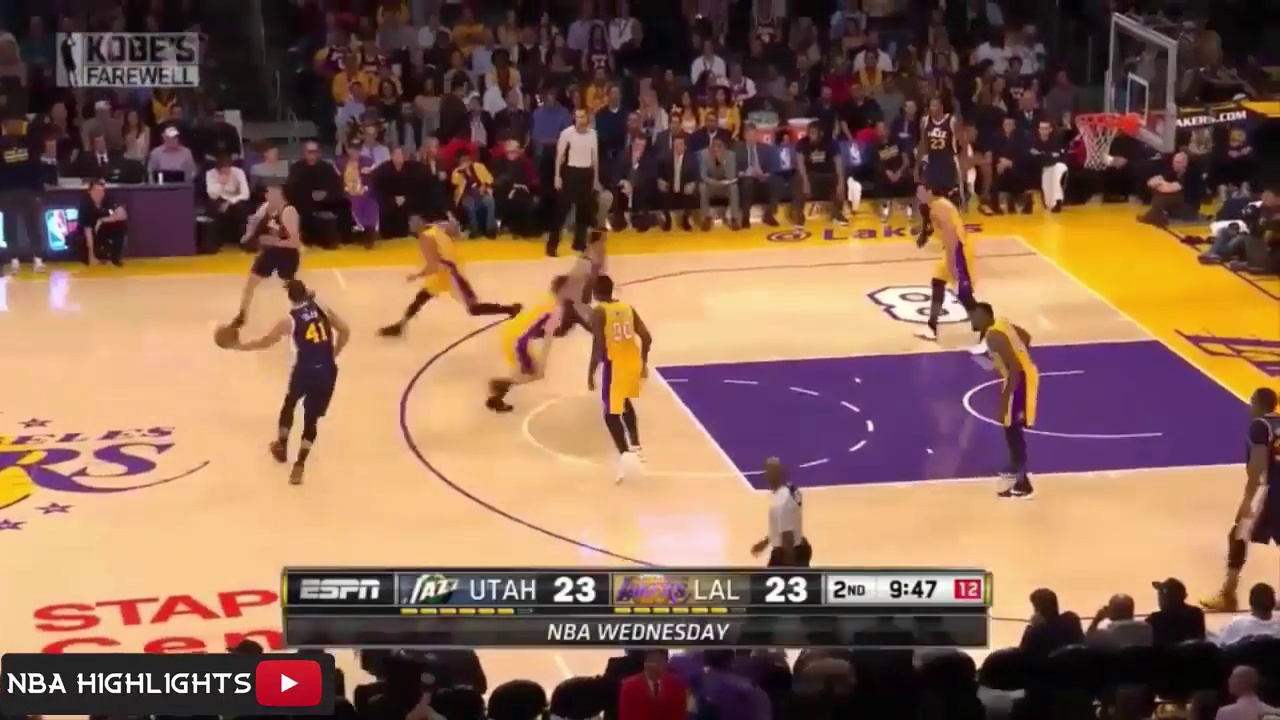jazz: (219, 277, 367, 486), (229, 181, 307, 330), (1230, 380, 1280, 577), (918, 103, 975, 251), (552, 234, 620, 348)
lakers: (962, 301, 1056, 499), (583, 276, 667, 466), (384, 205, 511, 330), (900, 181, 987, 344), (483, 275, 576, 412)
